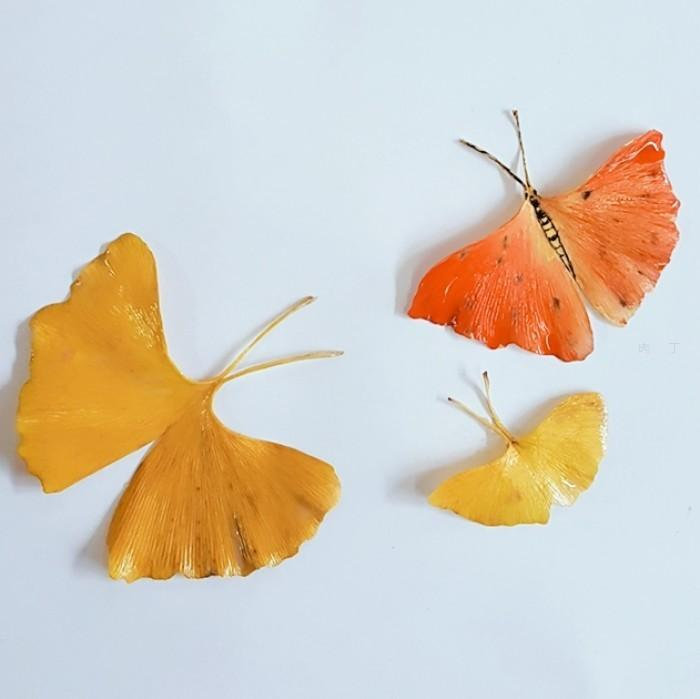apple: (399, 114, 679, 356)
